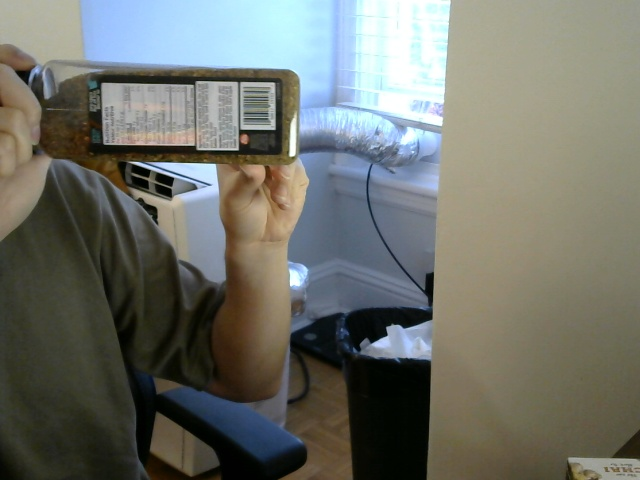Barcode: (241, 85, 274, 126)
